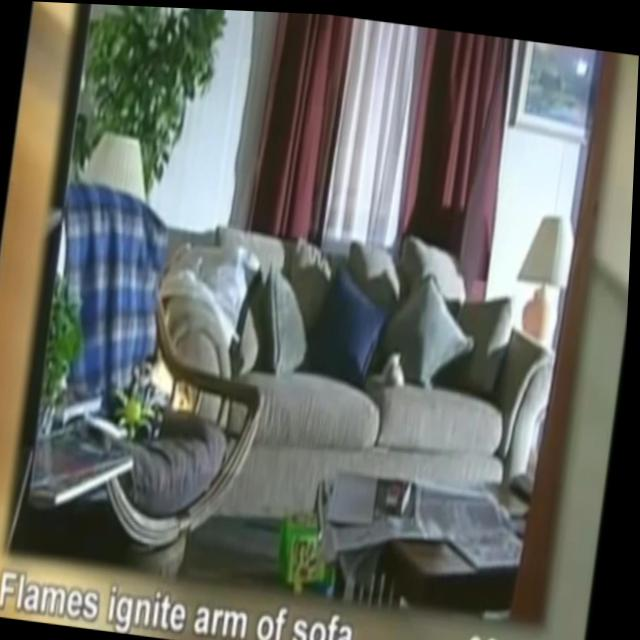fire: (151, 346, 180, 400)
